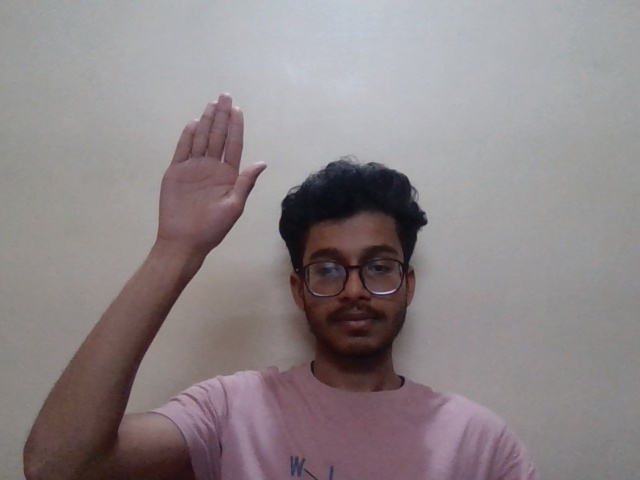hello: (159, 87, 266, 274)
